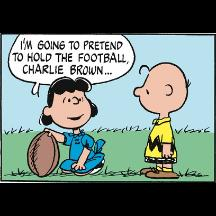charlie: (133, 62, 191, 180)
